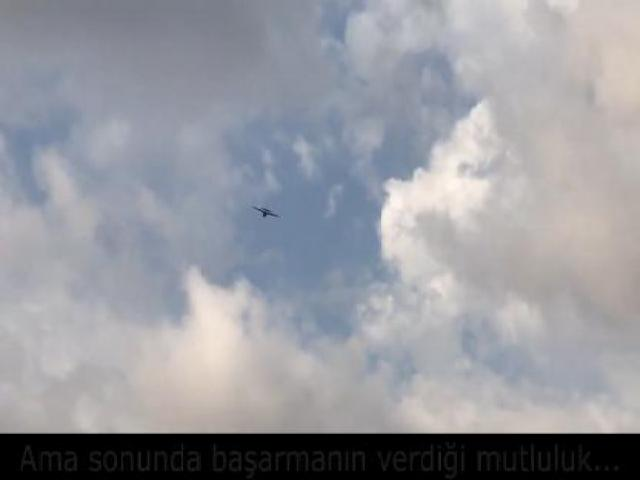uav: (248, 195, 283, 228)
